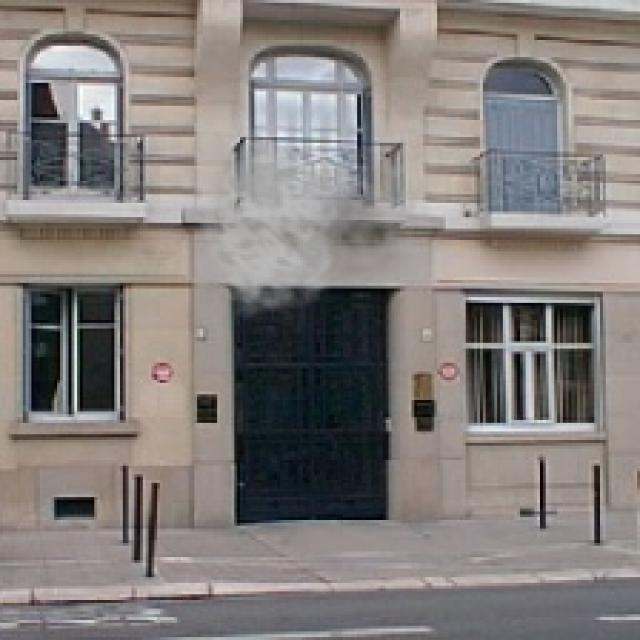smoke: (197, 120, 434, 320)
